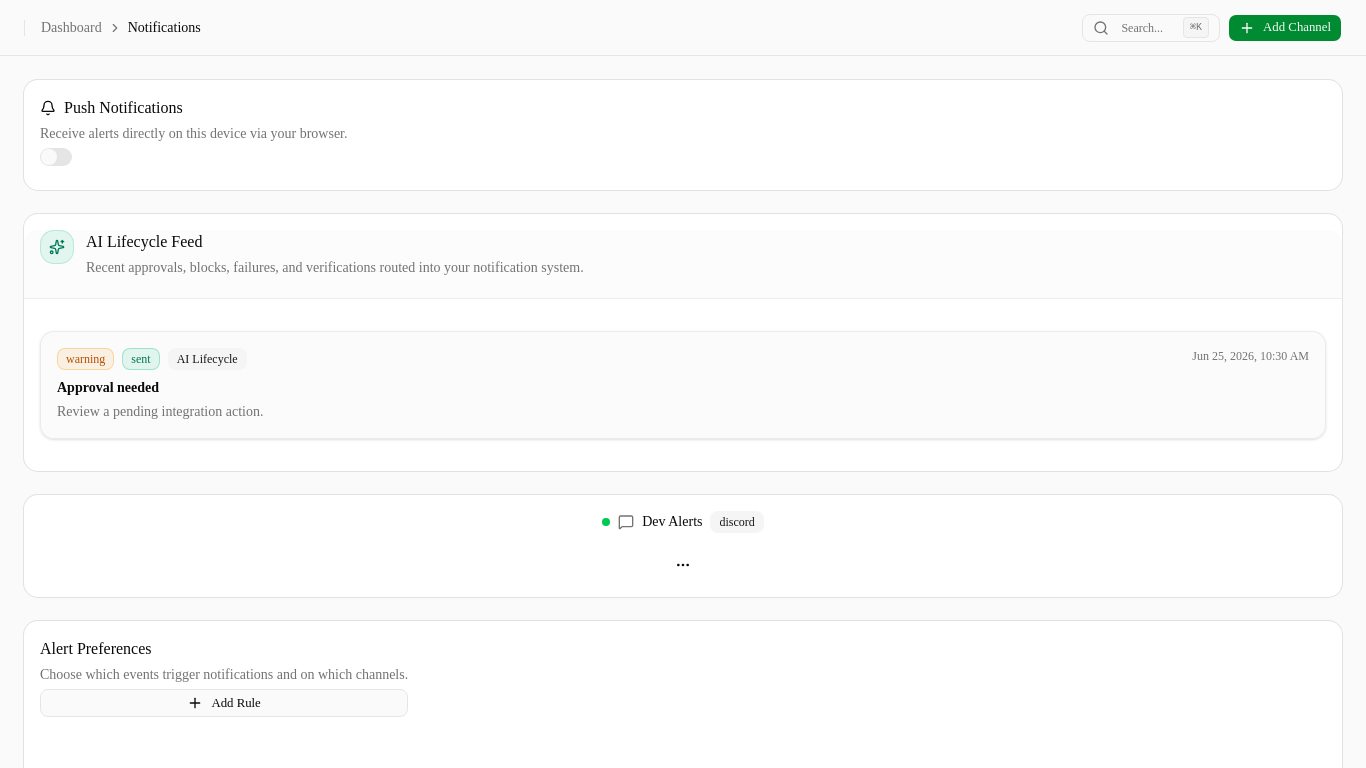
Test: NotificationsPage › opens create channel modal
This screenshot has width=1366, height=768.
Click the button "Add Channel" at [1285, 28], box [1228,14,1342,42]
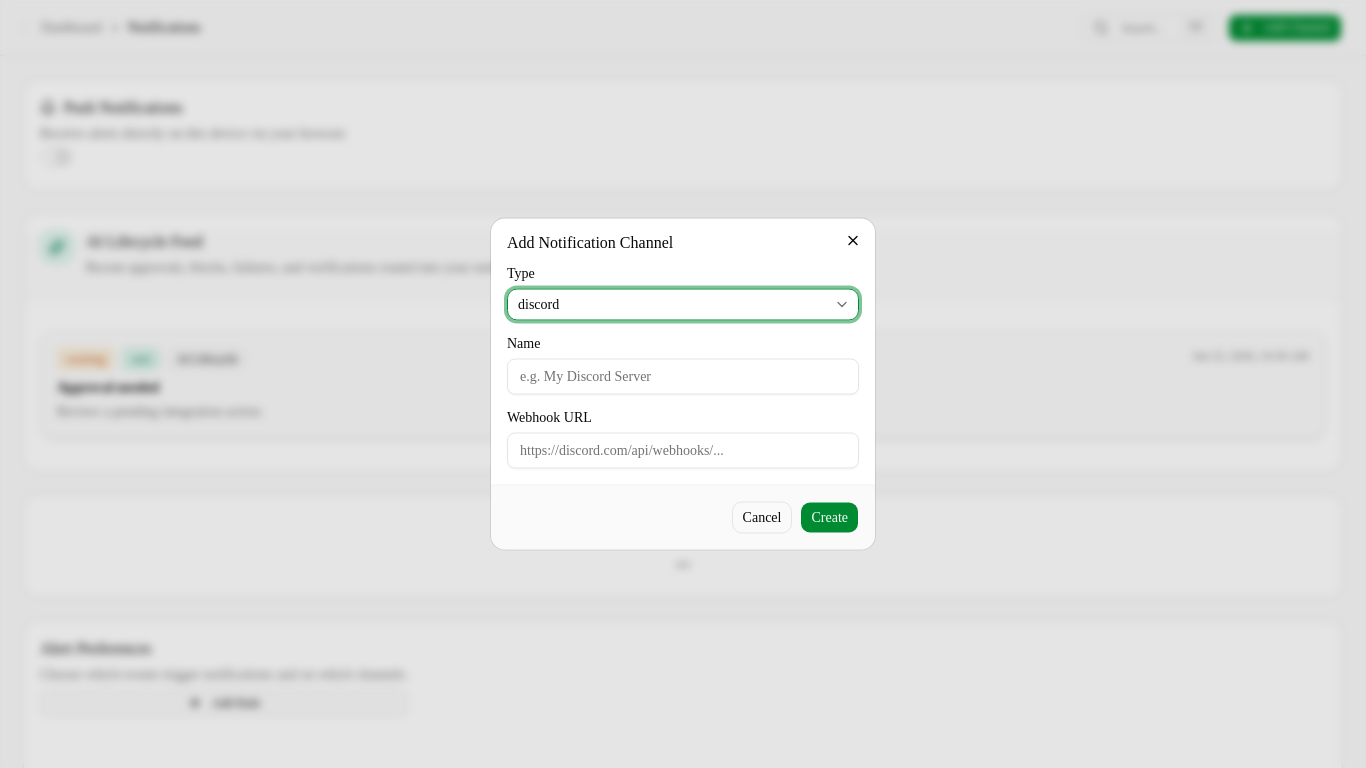
Now the heading "Add Notification Channel" is shown, box [507,234,673,250]
